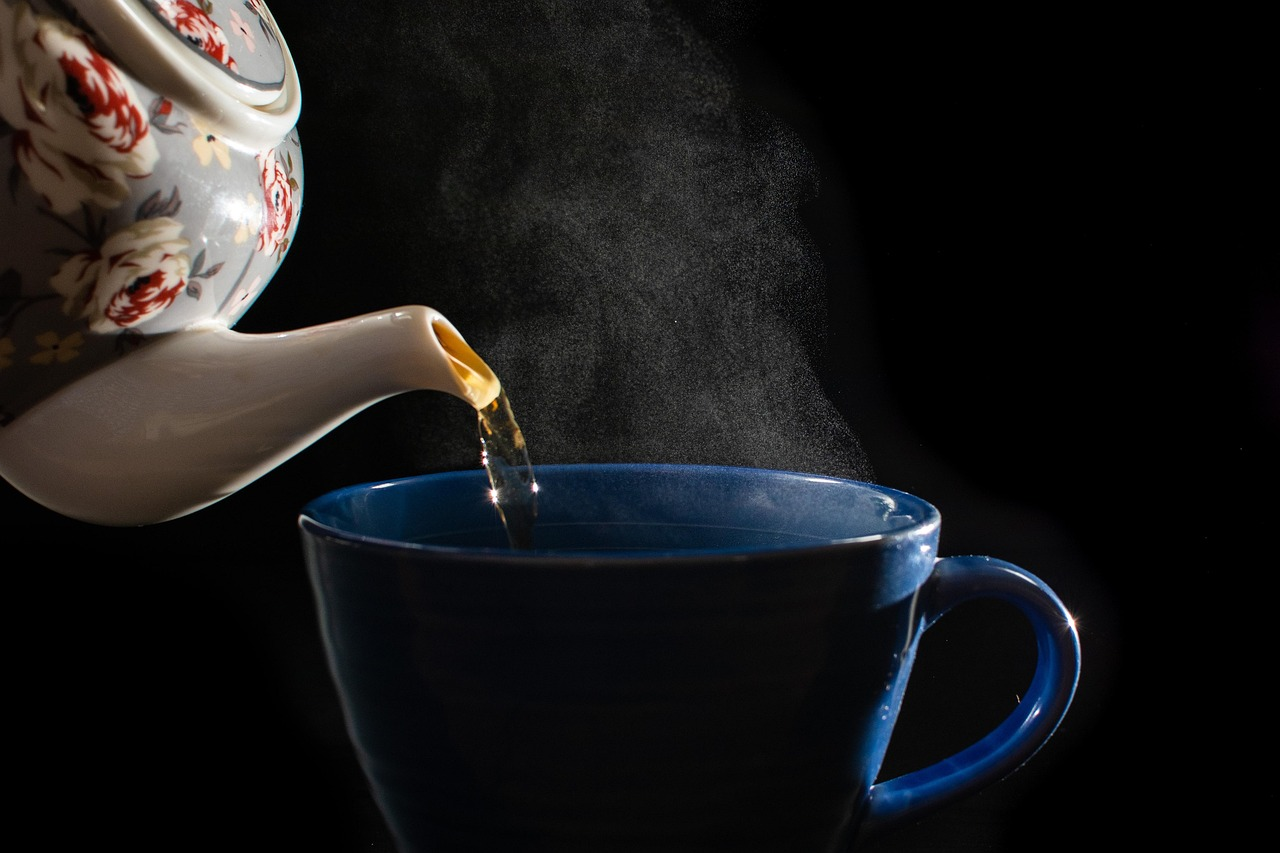mug: (324, 440, 1042, 836)
